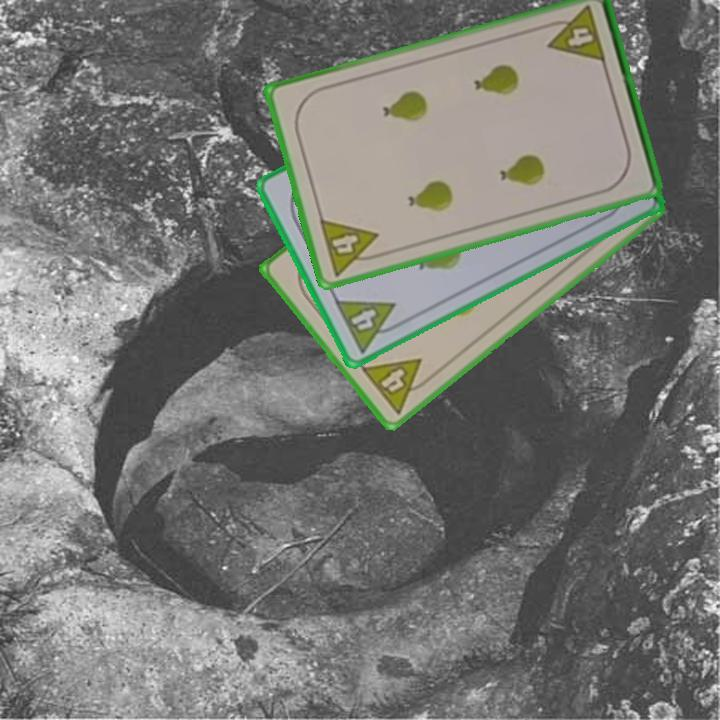4p: (357, 354, 437, 417), (330, 296, 407, 356), (316, 215, 386, 279), (540, 2, 609, 66)
